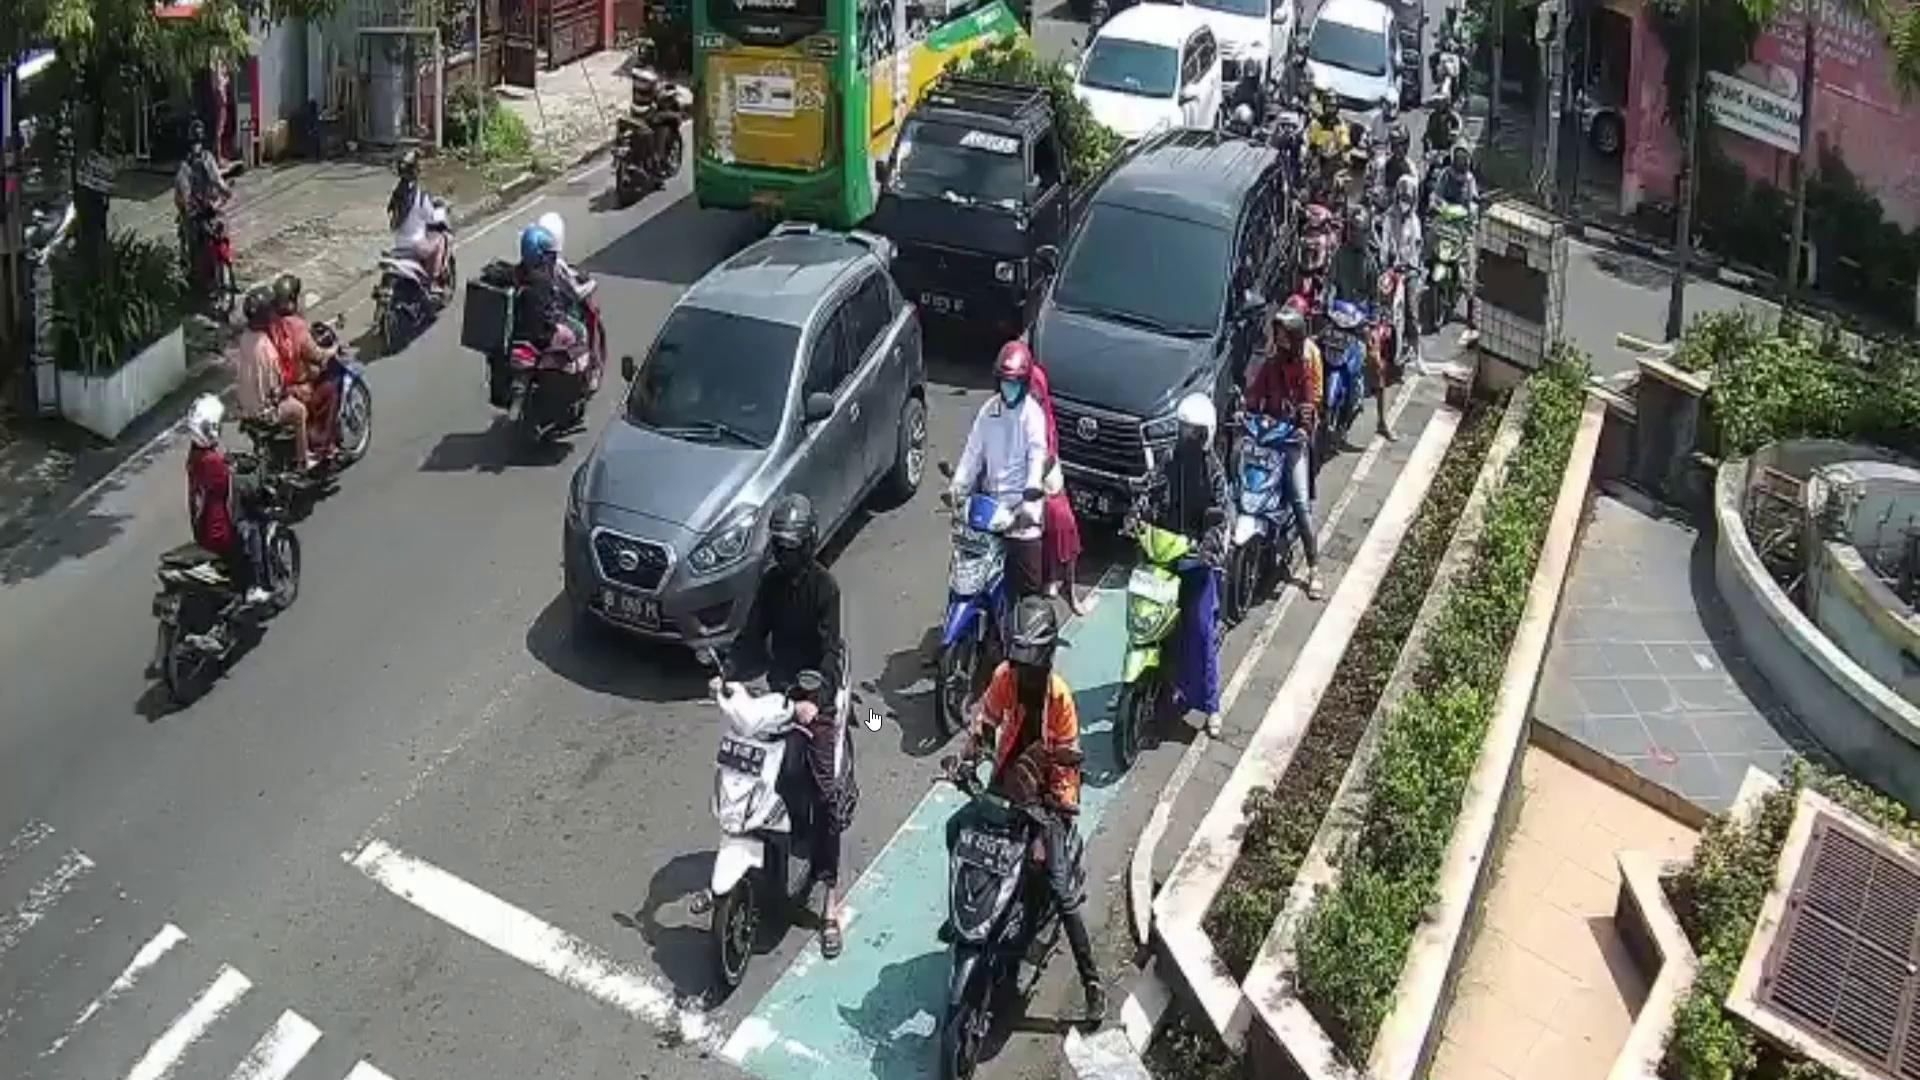bus: (690, 0, 1036, 215)
car: (562, 222, 926, 663), (1022, 131, 1302, 543), (870, 71, 1127, 336), (1076, 0, 1229, 141), (1302, 0, 1406, 160), (1184, 0, 1295, 99)
motorbike: (704, 658, 869, 984), (939, 773, 1080, 1080), (138, 455, 302, 699), (233, 322, 373, 468), (1114, 517, 1197, 762), (943, 493, 1029, 725), (505, 266, 605, 447), (1229, 410, 1299, 611), (376, 198, 455, 349), (189, 189, 247, 328), (1429, 198, 1482, 315), (1325, 293, 1371, 425)
